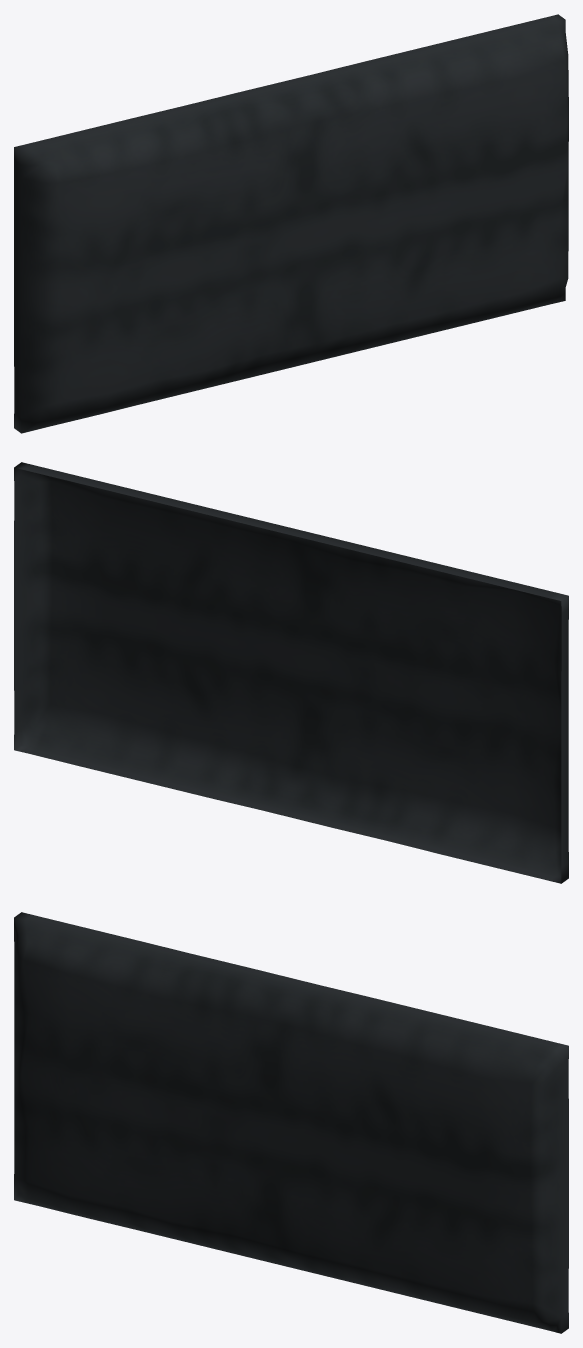
The model's file is Interior_1_scifi_A_BS.fbx.
The picture shows the model from 3 angles, top to bottom: view 1: azimuth 30°, elevation 25°; view 2: azimuth 150°, elevation 25°; view 3: azimuth 330°, elevation 25°; orthographic projection.
Parts seen in each view (by area): view 1: Interior_1_scifi_A_BS; view 2: Interior_1_scifi_A_BS; view 3: Interior_1_scifi_A_BS.
Part boxes in pixels (box(x1,y1,x2,y2)): Interior_1_scifi_A_BS: box(14, 14, 568, 433); Interior_1_scifi_A_BS: box(14, 462, 568, 883); Interior_1_scifi_A_BS: box(14, 912, 568, 1333).
Bounding box in the file's own units: 398 × 196 × 33.14.
